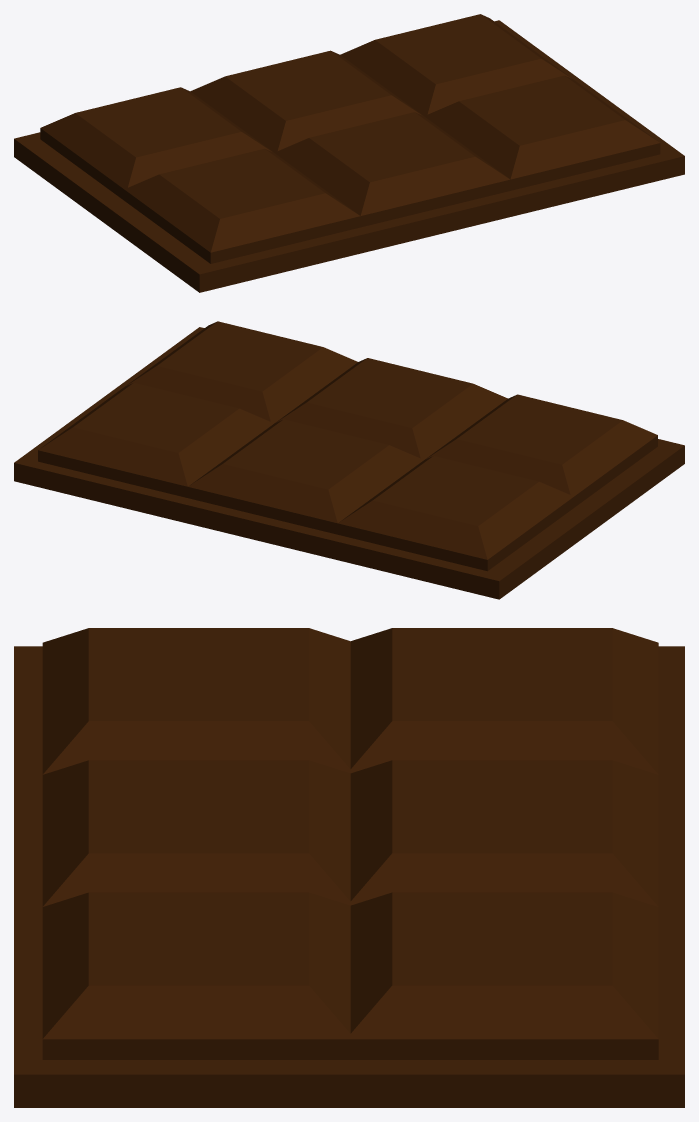
Rendered from chocolate.glb.
3 views of the same model, one above another, from view 1: azimuth 30°, elevation 25°; view 2: azimuth 150°, elevation 25°; view 3: azimuth 270°, elevation 25° (orthographic). The views are drawn at different scales.
Visible parts, largest first — view 1: Cube, Cube.001; view 2: Cube, Cube.001; view 3: Cube, Cube.001.
Part boxes in pixels (bbox=[...]): Cube: bbox=[40, 14, 660, 263]; Cube.001: bbox=[14, 20, 684, 292]; Cube: bbox=[38, 321, 657, 571]; Cube.001: bbox=[14, 327, 684, 599]; Cube: bbox=[42, 628, 658, 1059]; Cube.001: bbox=[14, 646, 684, 1107].
Bounding box in the file's own units: 6.48 × 0.6214 × 4.29.
